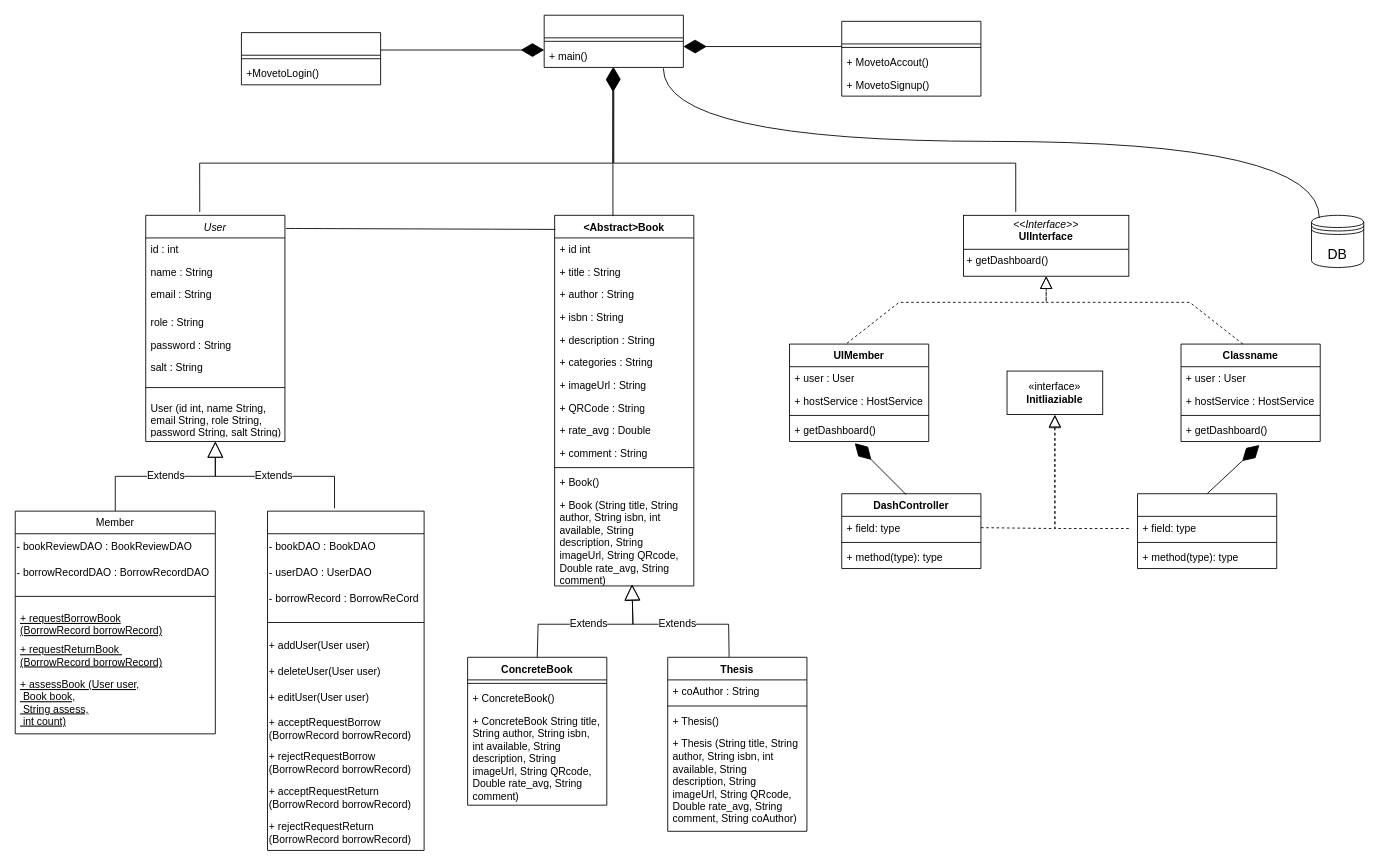
This 1379x866 diagram has some shape labels left out. The box of each missing label's shape, as (x1, y1, x2, y2) in pixels:
Admin: (267, 510, 424, 850)
Dash_AdminController: (1137, 493, 1277, 569)
Library Manage System: (543, 14, 683, 67)
LoginController: (841, 20, 981, 96)
SignupController: (241, 32, 381, 85)
